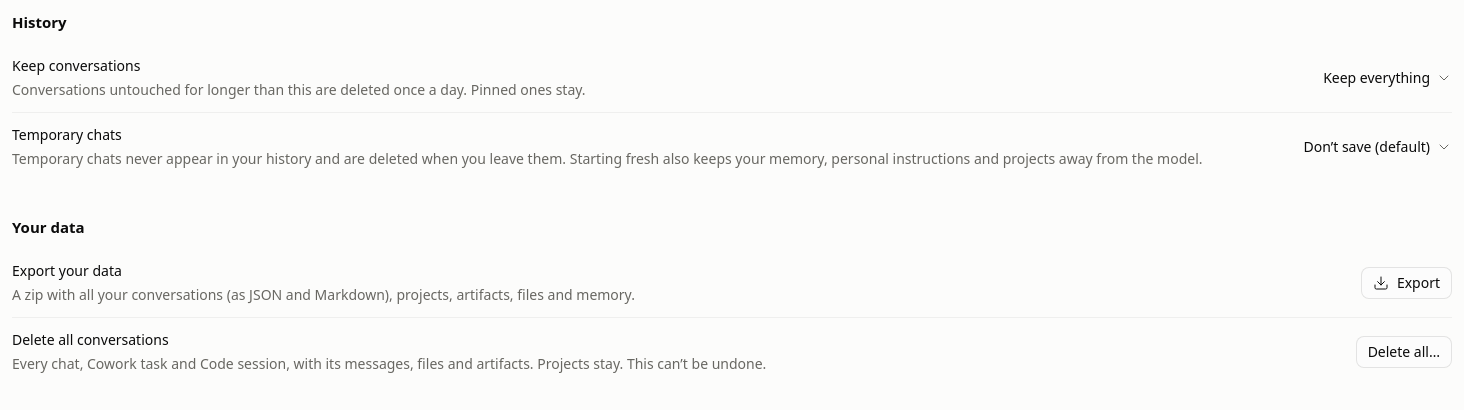
Test: Privacy page › saves how private temporary chats are
Click the dropdown named "Temporary chats".
click(1374, 147)  # box [1296,131,1452,163]
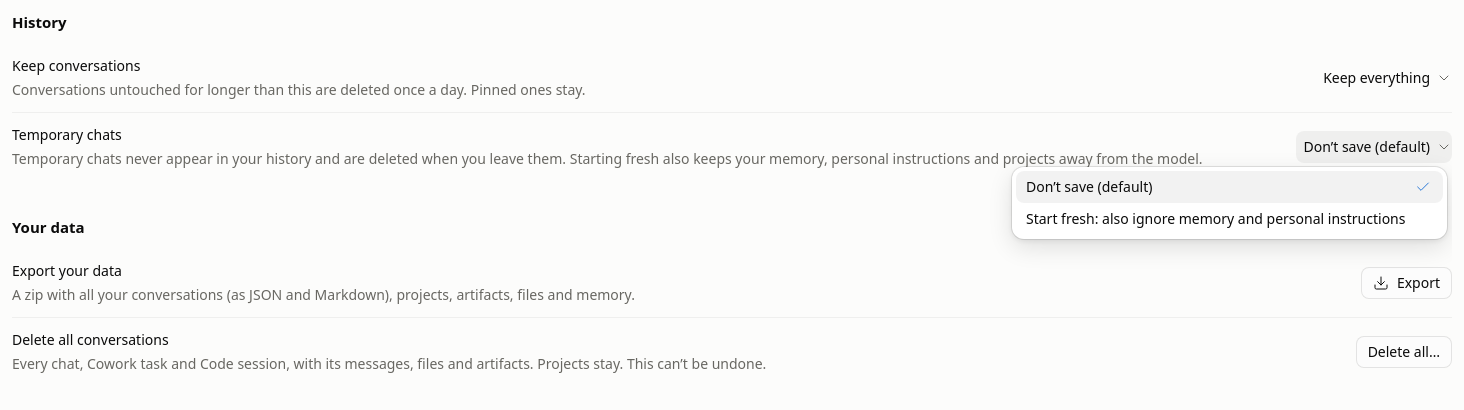
Click the option "Start fresh: also ignore memory and personal instructions".
click(1216, 218)  # box [1026,209,1406,228]
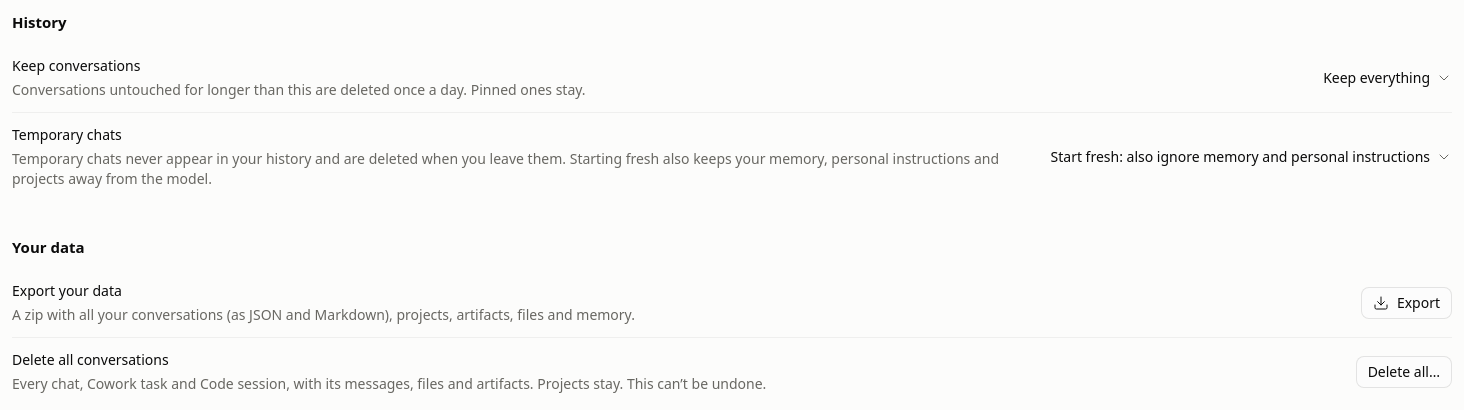
Check: the dropdown named "Temporary chats" shows "Start fresh", box [1042,141,1452,173]
